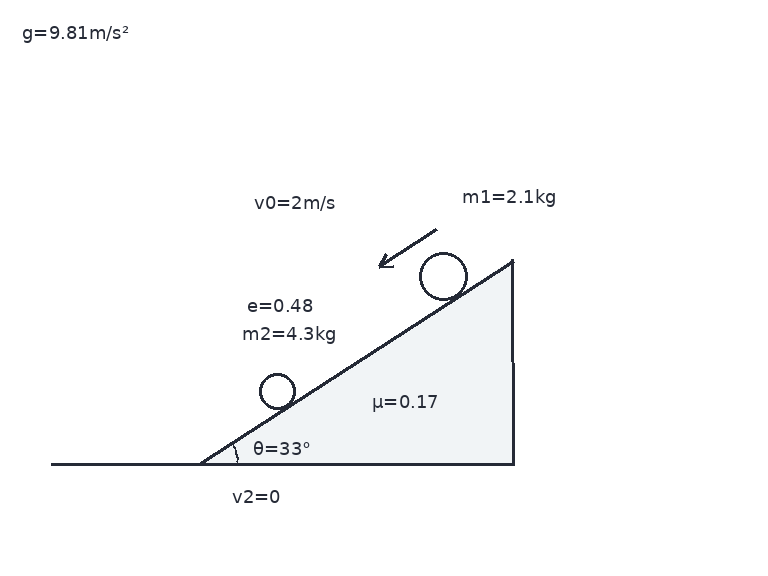ball: (417, 250, 469, 302), (257, 371, 297, 411)
ramp: (196, 258, 515, 466)
